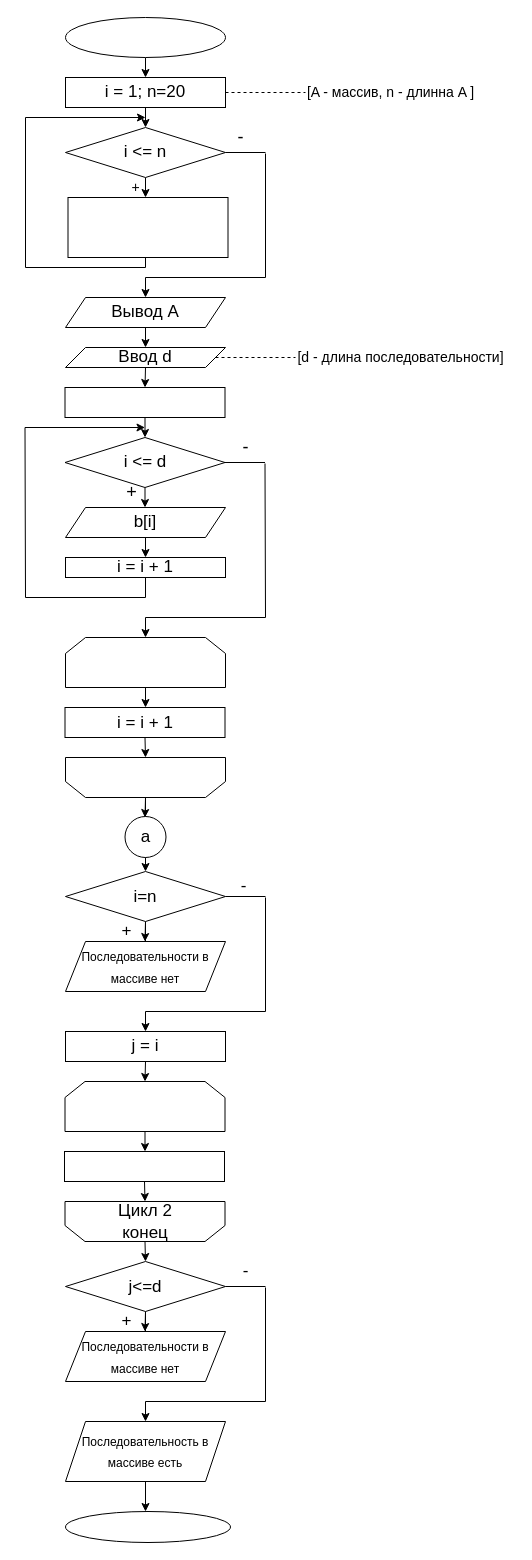
Some shapes in this 532 by 1560 pixel diagram are drawn without their labels. The shapes that lost their labels are listed below. From the top down, each one's box as (x1, y1, x2, y2) in pixels, then its label:
(64, 16, 226, 58): начало
(67, 196, 228, 258): A[i] - случайное число; i = i + 1
(64, 386, 225, 418): i = 1
(64, 636, 226, 688): Цикл 1 i > n и a[i]<>b[1]
(64, 756, 226, 798): Цикл 1 конец
(64, 1080, 225, 1132): Цикл 2 j > d и b[j]=a[j]
(64, 1150, 224, 1182): j = j + 1
(64, 1510, 230, 1542): Конец
